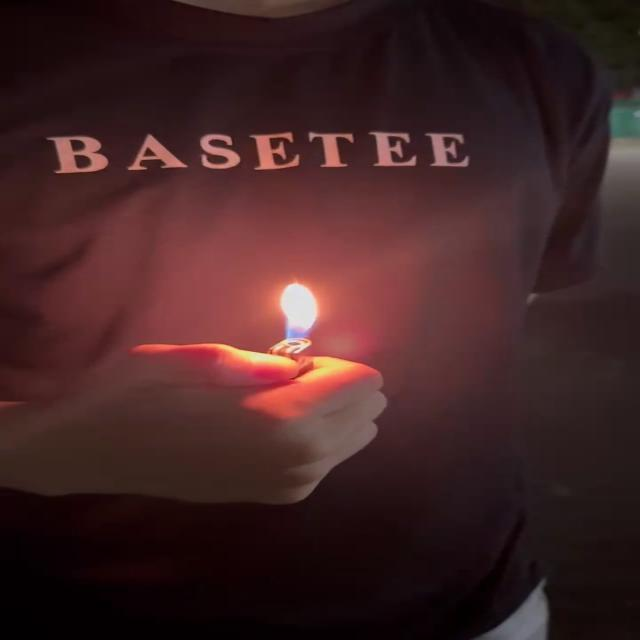Fire: (280, 281, 320, 346)
